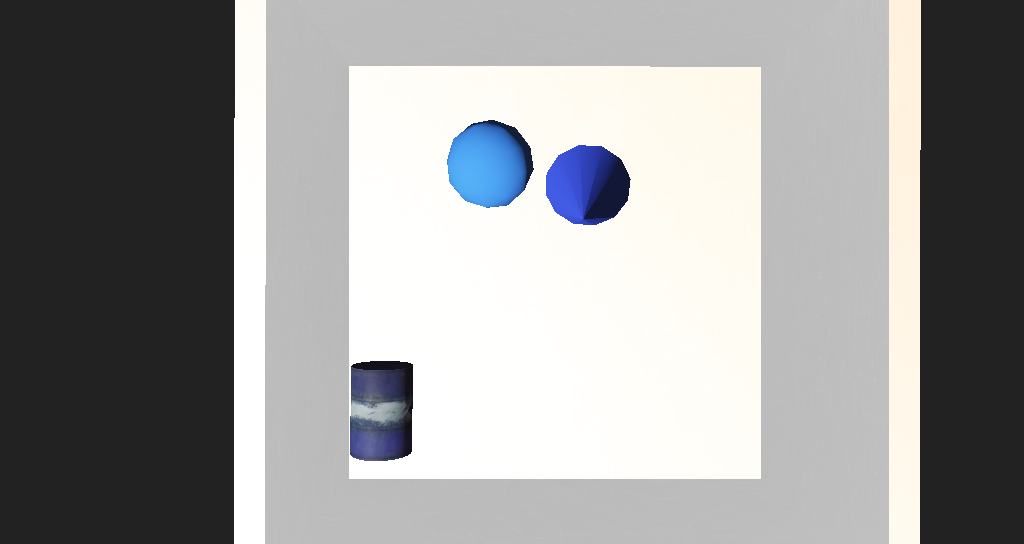cone: (350, 315, 404, 363)
cylinder: (482, 196, 569, 262)
sphere: (428, 193, 488, 236)
